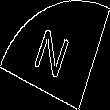N_SW: (32, 24, 78, 86)
